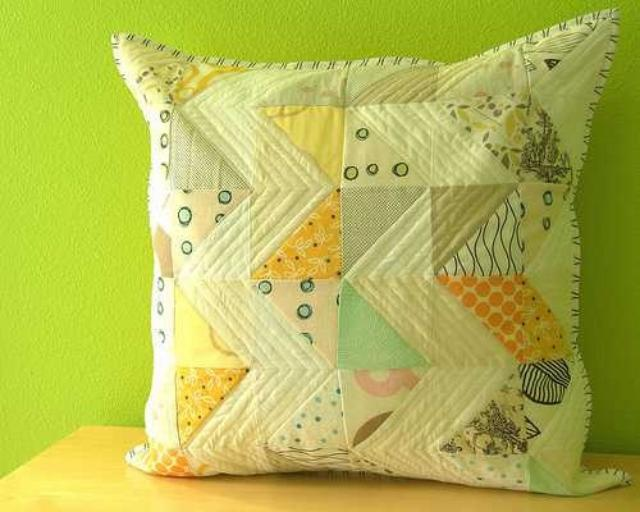pillow: (109, 8, 631, 496)
